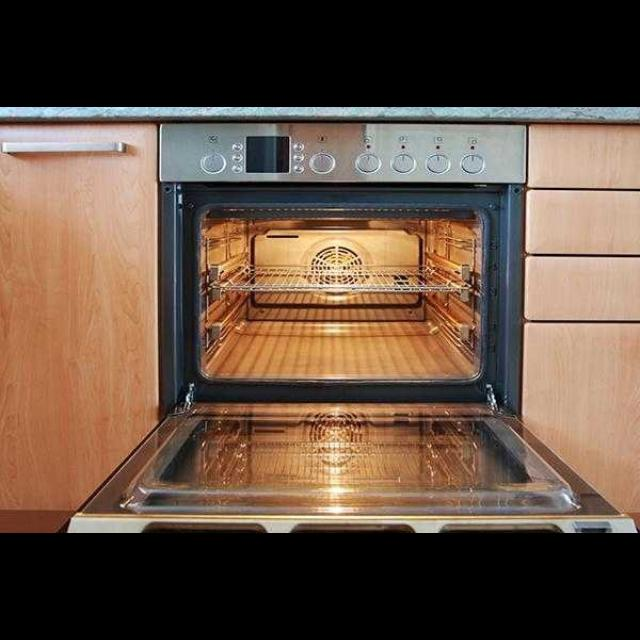Oven: (158, 120, 526, 420)
